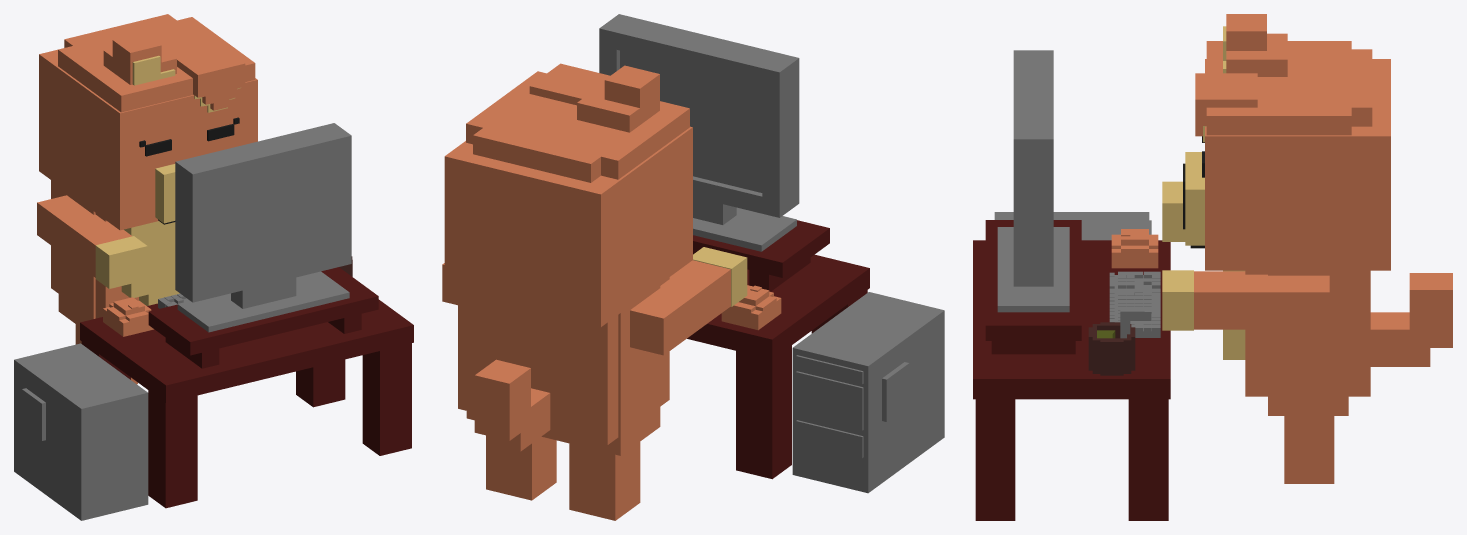
File: perrito4.glb
3 views of the same model, side by side, from view 1: azimuth 30°, elevation 25°; view 2: azimuth 150°, elevation 25°; view 3: azimuth 270°, elevation 25° (orthographic). The views are drawn at different scales.
Visible parts, largest first — view 1: Cubo.015, Cubo.021, Cubo.006, Cubo.014, Cubo.013, Cubo.008, Cubo.020, Cubo.019, Cubo.003, Cubo.009, Cubo.002, Cubo.026 (+9 smaller); view 2: Cubo.006, Cubo.021, Cubo.015, Cubo, Cubo.008, Cubo.005, Cubo.014, Cubo.012, Cubo.003, Cubo.004, Cubo.001, Cubo.010 (+6 smaller); view 3: Cubo.006, Cubo.014, Cubo.008, Cubo.015, Cubo.001, Cubo.003, Cubo.004, Cubo.020, Cubo.012, Cubo.013, Cubo, Cubo.019 (+12 smaller).
Part boxes in pixels (box(x1,y1,x2,y2)): Cubo.015: box(175, 123, 351, 302); Cubo.021: box(14, 343, 148, 520); Cubo.006: box(39, 49, 257, 230); Cubo.014: box(80, 299, 413, 402); Cubo.013: box(148, 343, 411, 508); Cubo.008: box(58, 14, 255, 112); Cubo.020: box(148, 267, 378, 355); Cubo.019: box(177, 271, 349, 332); Cubo.003: box(37, 195, 131, 277); Cubo.009: box(172, 43, 245, 110); Cubo.002: box(121, 221, 179, 305); Cubo.026: box(95, 236, 147, 288); Cubo.006: box(444, 126, 692, 327); Cubo.021: box(792, 292, 944, 493); Cubo.015: box(599, 14, 799, 217); Cubo: box(458, 277, 669, 444); Cubo.008: box(466, 71, 689, 182); Cubo.005: box(486, 436, 640, 520); Cubo.014: box(687, 254, 869, 359); Cubo.012: box(736, 345, 791, 479); Cubo.003: box(442, 260, 730, 355); Cubo.004: box(474, 359, 550, 451); Cubo.001: box(466, 284, 660, 455); Cubo.010: box(577, 65, 659, 132); Cubo.006: box(1205, 59, 1390, 270); Cubo.014: box(973, 240, 1170, 399); Cubo.008: box(1206, 41, 1372, 135); Cubo.015: box(1013, 50, 1053, 286); Cubo.001: box(1268, 270, 1348, 415); Cubo.003: box(1194, 271, 1329, 329); Cubo.004: box(1370, 273, 1452, 366); Cubo.020: box(985, 220, 1081, 340); Cubo.012: box(1128, 399, 1168, 520); Cubo.013: box(975, 399, 1015, 520); Cubo: box(1245, 270, 1370, 396); Cubo.019: box(997, 227, 1069, 312).
Size of what is drawn, in the model's own units: 4.22 by 4.41 by 4.67.
